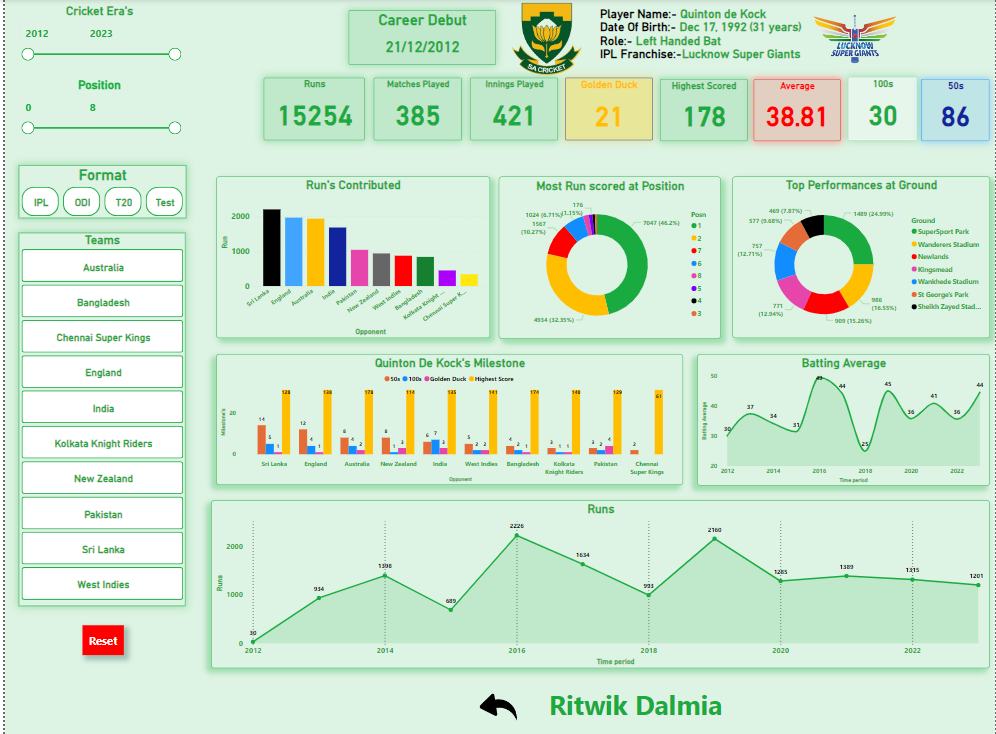

What the dashboard file says about the page in this screenshot:
{"tool":"powerbi","page":{"name":"quinton de kock","canvas":[1990,1480],"ordinal":5},"visuals":[{"type":"group","id":"g1","title":"Group 1","box":[521.2,158.4,1458.8,126.6],"z":0},{"type":"cardVisual","title":"Matches Played","fields":{"Data":["CountNonNull(stats_quinton_de_kock.Match)"]},"box":[741.6,158.4,177.2,125.7],"z":0,"group":"g1"},{"type":"textbox","box":[1191.2,10,430,131.2],"z":1000,"group":"g2"},{"type":"cardVisual","title":"Innings Played","fields":{"Data":["CountNonNull(stats_quinton_de_kock.Innings)"]},"box":[936,158.4,177.2,125.7],"z":1000,"group":"g1"},{"type":"textbox","box":[1087.5,1377.6,380,90],"z":1000},{"type":"group","id":"g2","title":"Group 2","box":[1191.2,10,430,131.2],"z":2000},{"type":"cardVisual","title":"Golden Duck","fields":{"Data":["stats_quinton_de_kock.Golden Duck  qdk"]},"box":[1127.5,158.4,177.2,125.7],"z":2000,"group":"g1"},{"type":"cardVisual","title":"Average","fields":{"Data":["stats_quinton_de_kock.Dynamic batting avg qdk"]},"box":[1505.3,160.9,174.5,124.4],"z":3000,"group":"g1"},{"type":"image","box":[920,1390.1,143.3,66.7],"z":3000},{"type":"cardVisual","title":"Runs","fields":{"Data":["Sum(stats_quinton_de_kock.Runs)"]},"box":[521.2,158.7,203.4,125.5],"z":4000,"group":"g1"},{"type":"advancedSlicerVisual","title":"Format","fields":{"Values":["stats_quinton_de_kock.Match_type"]},"box":[26.7,335,336.7,106.7],"z":4000},{"type":"cardVisual","fields":{"Data":["stats_quinton_de_kock.FirstMatchDate qdk"]},"box":[691.2,22.8,295.8,110],"z":5000},{"type":"cardVisual","title":"Highest Scored","fields":{"Data":["stats_quinton_de_kock.Highest Score qdk"]},"box":[1318.5,159.8,175.6,124.4],"z":5000,"group":"g1"},{"type":"cardVisual","title":"100s","fields":{"Data":["stats_quinton_de_kock.100s qdk"]},"box":[1696.6,159.5,136,125],"z":6000,"group":"g1"},{"type":"actionButton","box":[155,1258.3,83.3,60],"z":6000},{"type":"cardVisual","title":"50s","fields":{"Data":["stats_quinton_de_kock.50s qdk"]},"box":[1842,160.9,136.7,124.4],"z":7000,"group":"g1"},{"type":"areaChart","title":"Runs","fields":{"Y":["Sum(stats_quinton_de_kock.Runs)"],"Category":["stats_quinton_de_kock.Match_Year"]},"box":[415,1007.5,1565,337.5],"z":7000},{"type":"advancedSlicerVisual","fields":{"Values":["stats_quinton_de_kock.Versus"]},"box":[28.3,470,335,750],"z":8000},{"type":"areaChart","fields":{"Category":["stats_quinton_de_kock.Match_Year"],"Y":["stats_quinton_de_kock.Dynamic batting avg qdk"]},"box":[1392.5,712.5,587.5,265],"z":9000},{"type":"clusteredColumnChart","title":"Quinton De Kock''s Milestone","fields":{"Y":["stats_quinton_de_kock.50s qdk","stats_quinton_de_kock.100s qdk","stats_quinton_de_kock.Golden Duck  qdk","stats_quinton_de_kock.Highest Score qdk"],"Category":["stats_quinton_de_kock.Versus"]},"box":[425,713.3,938.3,263.3],"z":10000},{"type":"clusteredColumnChart","title":"Run''s Contributed","fields":{"Y":["Sum(stats_quinton_de_kock.Runs)"],"Category":["stats_quinton_de_kock.Versus"]},"box":[425,356.7,550,325],"z":11000},{"type":"slicer","title":"Cricket Era''s","fields":{"Values":["stats_quinton_de_kock.Match_Year"]},"box":[18.3,10,345,133.3],"z":12000},{"type":"donutChart","title":"Most Run scored at Position","fields":{"Category":["stats_quinton_de_kock.Posn"],"Y":["Sum(stats_quinton_de_kock.Runs)"]},"box":[993.3,356.7,446.7,326.7],"z":13000},{"type":"slicer","title":"Position","fields":{"Values":["stats_quinton_de_kock.Posn"]},"box":[18.3,158.3,345,133.3],"z":14000},{"type":"donutChart","title":"Top Performances at Ground  ","fields":{"Y":["Sum(stats_quinton_de_kock.Runs)"],"Category":["stats_quinton_de_kock.Ground"]},"box":[1462.5,357.5,517.5,325],"z":15000},{"type":"image","box":[1621.2,0,175,161.2],"z":16000},{"type":"image","box":[995,0,187.5,161.2],"z":17000}]}

Visuals, with their boxes in screenshot pixels (x1, y1, x2, y2), scaled from the page's 1990x1480 canvas onto the 996x734 screenshot:
"Group 1" group: [x1=261, y1=79, x2=991, y2=141]
"Matches Played" cardVisual: [x1=371, y1=79, x2=460, y2=141]
textbox: [x1=596, y1=5, x2=811, y2=70]
"Innings Played" cardVisual: [x1=468, y1=79, x2=557, y2=141]
textbox: [x1=544, y1=683, x2=734, y2=728]
"Group 2" group: [x1=596, y1=5, x2=811, y2=70]
"Golden Duck" cardVisual: [x1=564, y1=79, x2=653, y2=141]
"Average" cardVisual: [x1=753, y1=80, x2=841, y2=141]
image: [x1=460, y1=689, x2=532, y2=722]
"Runs" cardVisual: [x1=261, y1=79, x2=363, y2=141]
"Format" advancedSlicerVisual: [x1=13, y1=166, x2=182, y2=219]
cardVisual - stats_quinton_de_kock.FirstMatchDate qdk: [x1=346, y1=11, x2=494, y2=66]
"Highest Scored" cardVisual: [x1=660, y1=79, x2=748, y2=141]
"100s" cardVisual: [x1=849, y1=79, x2=917, y2=141]
actionButton: [x1=78, y1=624, x2=119, y2=654]
"50s" cardVisual: [x1=922, y1=80, x2=990, y2=141]
"Runs" areaChart: [x1=208, y1=500, x2=991, y2=667]
advancedSlicerVisual - stats_quinton_de_kock.Versus: [x1=14, y1=233, x2=182, y2=605]
areaChart - stats_quinton_de_kock.Match_Year x stats_quinton_de_kock.Dynamic batting avg qdk: [x1=697, y1=353, x2=991, y2=485]
"Quinton De Kock''s Milestone" clusteredColumnChart: [x1=213, y1=354, x2=682, y2=484]
"Run''s Contributed" clusteredColumnChart: [x1=213, y1=177, x2=488, y2=338]
"Cricket Era''s" slicer: [x1=9, y1=5, x2=182, y2=71]
"Most Run scored at Position" donutChart: [x1=497, y1=177, x2=721, y2=339]
"Position" slicer: [x1=9, y1=79, x2=182, y2=145]
"Top Performances at Ground  " donutChart: [x1=732, y1=177, x2=991, y2=338]
image: [x1=811, y1=0, x2=899, y2=80]
image: [x1=498, y1=0, x2=592, y2=80]
